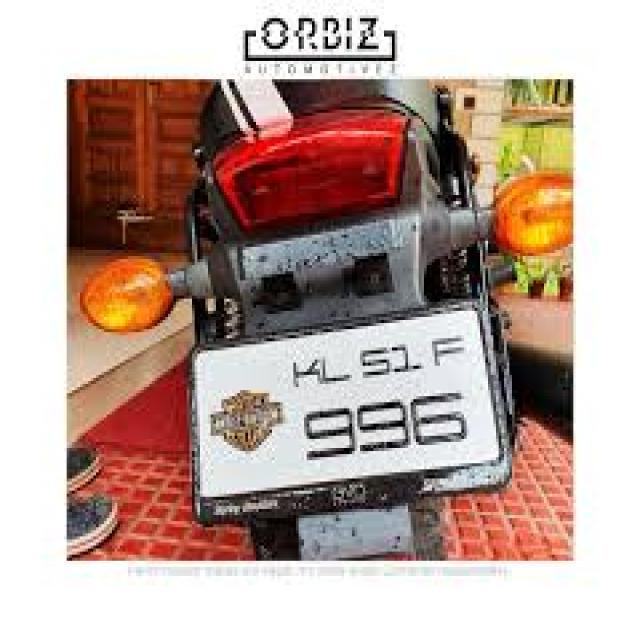number_plate: (180, 319, 525, 517)
